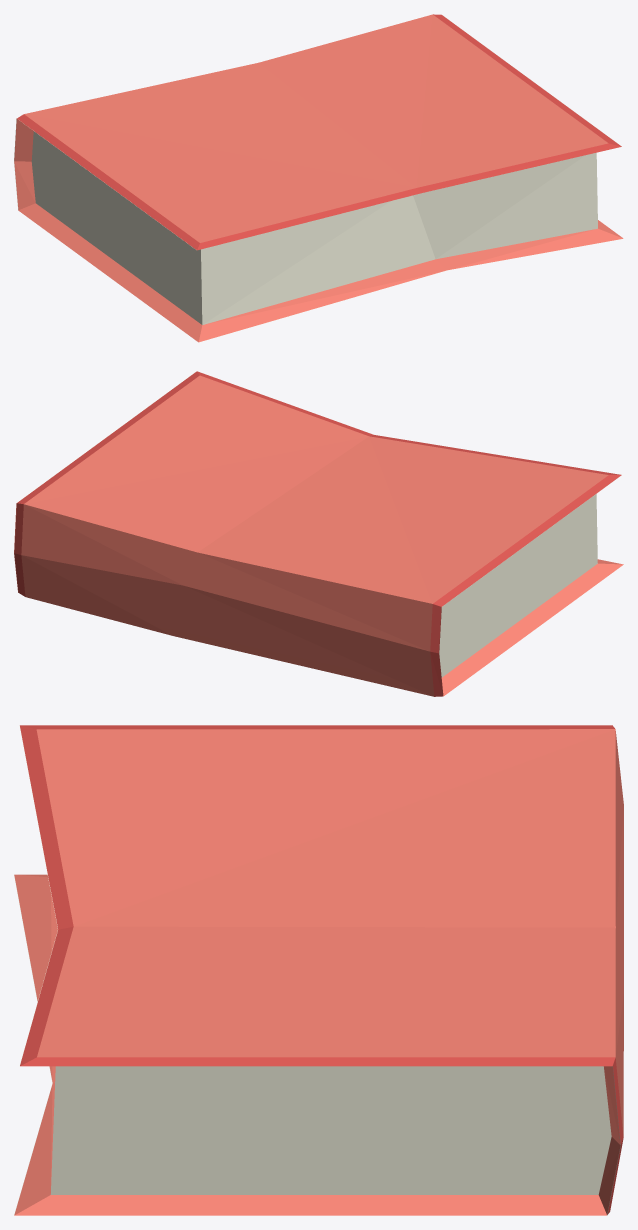
File: Libro rosa.fbx
The picture shows the model from 3 angles, top to bottom: view 1: azimuth 30°, elevation 25°; view 2: azimuth 150°, elevation 25°; view 3: azimuth 270°, elevation 25°; orthographic projection. The views are drawn at different scales.
Visible parts, largest first — view 1: Cube; view 2: Cube; view 3: Cube.
Part boxes in pixels (<box>): Cube: <box>14,14,623,342</box>; Cube: <box>14,371,623,696</box>; Cube: <box>14,725,623,1215</box>.
Bounding box in the file's own units: 200 × 43.63 × 151.
